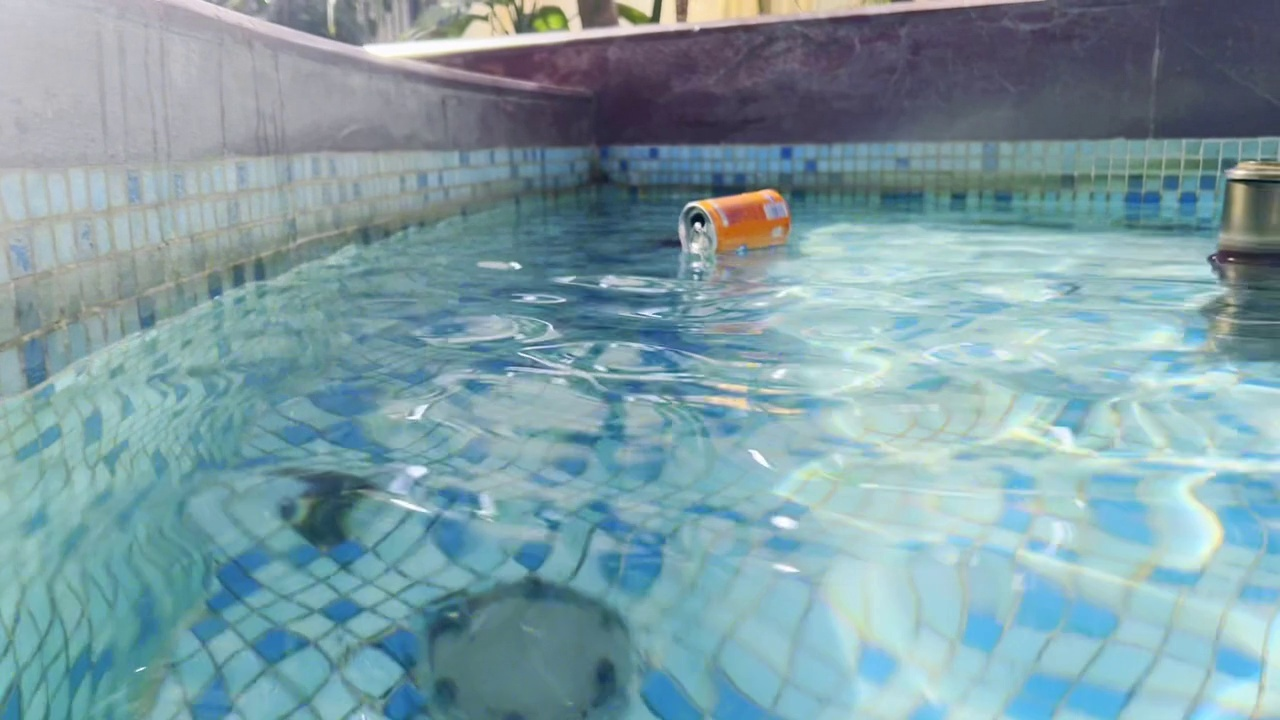debris: (667, 181, 800, 268)
